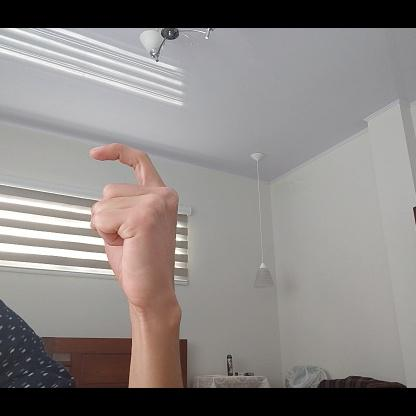X: (86, 141, 186, 319)
